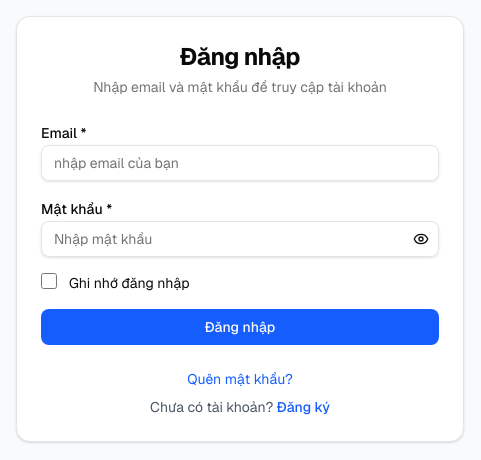
Test: LoginPage › toggles password visibility
Note: Click to show password
Click the button named "hiện mật khẩu" at coordinates (421, 239), box [403,221,439,257]
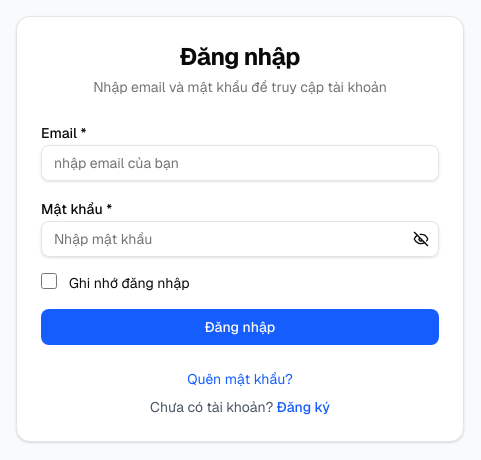
Check: the button named "ẩn mật khẩu" is shown
Note: Click to hide password
Click the button named "ẩn mật khẩu" at coordinates (421, 239), box [403,221,439,257]
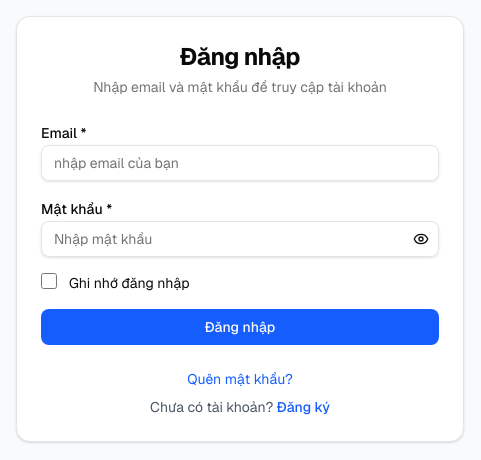
Check: the button named "hiện mật khẩu" is shown, box [403,221,439,257]
